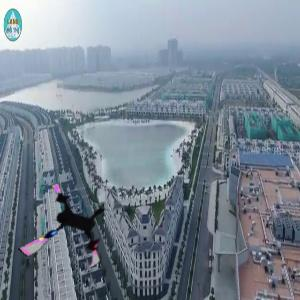drone: (15, 179, 118, 282)
